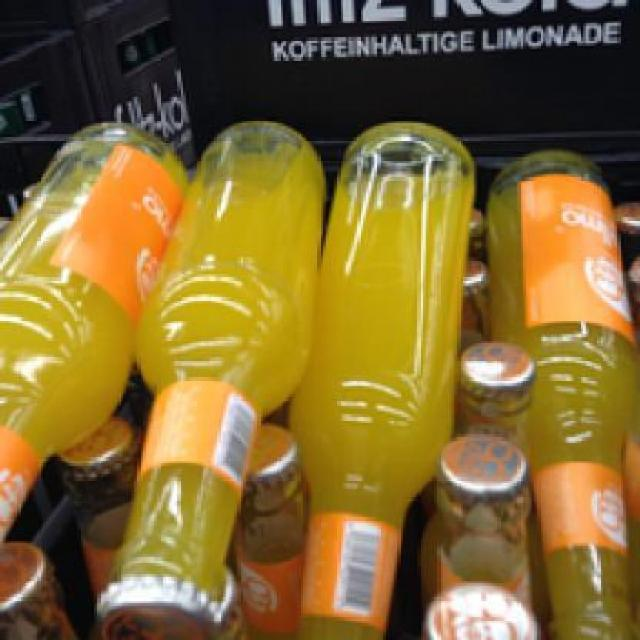Fanta: (97, 113, 323, 636), (293, 114, 477, 637), (3, 117, 177, 563), (480, 146, 634, 637)
